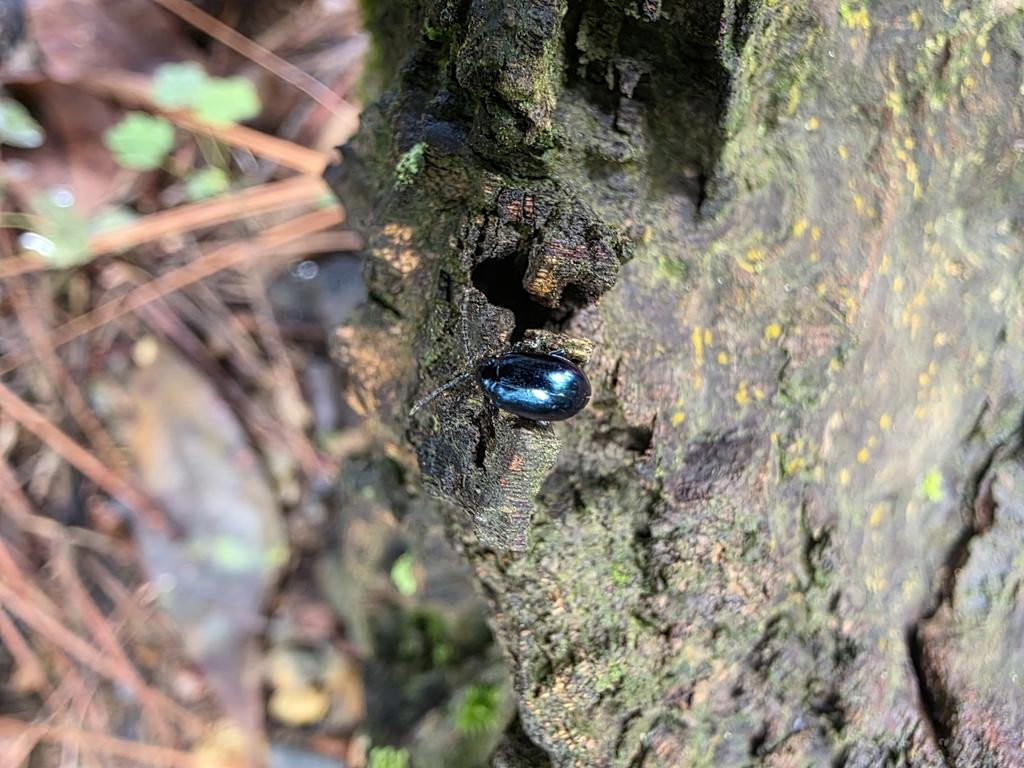flea_beetle: (392, 294, 610, 456)
